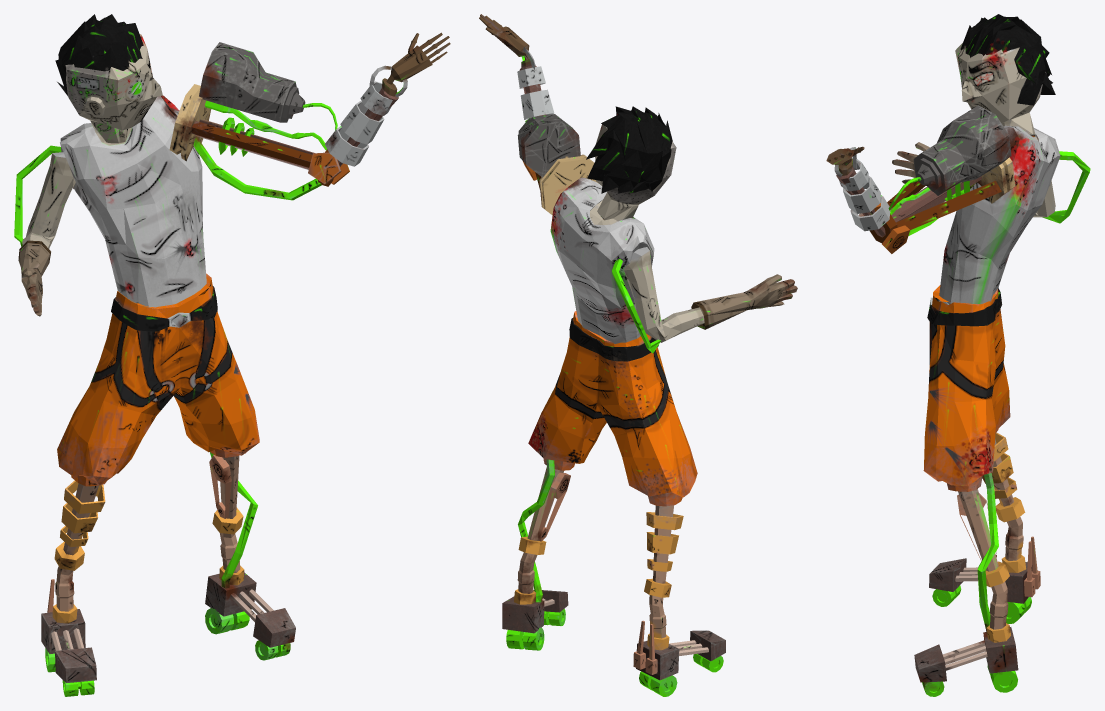
File: CyborgFINALAnimation_000053.obj
The picture shows the model from 3 angles, left to right: view 1: azimuth 30°, elevation 25°; view 2: azimuth 150°, elevation 25°; view 3: azimuth 270°, elevation 25°; orthographic projection. The views are drawn at different scales.
Visible parts, largest first — view 1: CyborgMesh_Cube.002; view 2: CyborgMesh_Cube.002; view 3: CyborgMesh_Cube.002.
Part boxes in pixels (x1,y1,x2,y2): CyborgMesh_Cube.002: (14, 14, 450, 696); CyborgMesh_Cube.002: (479, 14, 797, 696); CyborgMesh_Cube.002: (826, 14, 1090, 696).
Bounding box in the file's own units: 5.99 × 9.56 × 3.71.
